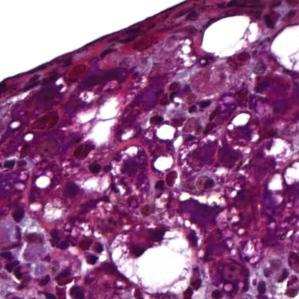ballooning: (109, 222, 196, 296), (200, 13, 261, 60), (269, 23, 299, 75)
